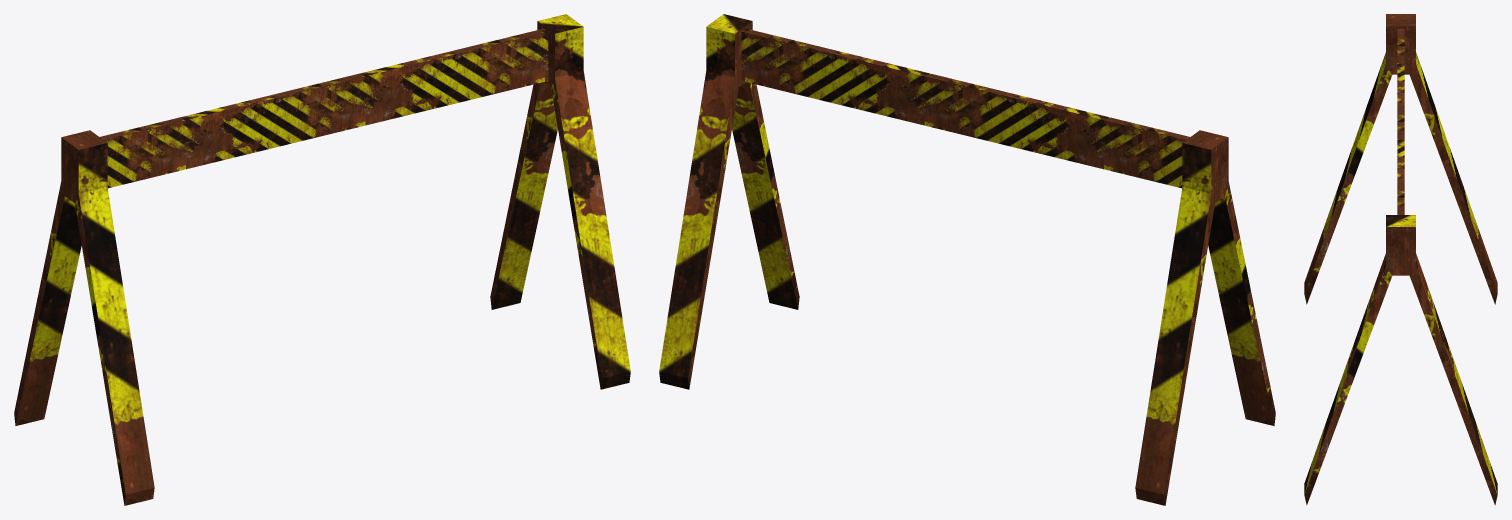
File: FBXroadblock2.fbx
The picture shows the model from 3 angles, left to right: view 1: azimuth 30°, elevation 25°; view 2: azimuth 150°, elevation 25°; view 3: azimuth 270°, elevation 25°; orthographic projection. The views are drawn at different scales.
Visible parts, largest first — view 1: wartningblcokthing; view 2: wartningblcokthing; view 3: wartningblcokthing.
Boxes of the visible parts, x1=… form: wartningblcokthing: x1=14, y1=14, x2=630, y2=505; wartningblcokthing: x1=659, y1=14, x2=1275, y2=505; wartningblcokthing: x1=1304, y1=14, x2=1497, y2=505.
Bounding box in the file's own units: 157 × 95.99 × 60.24.
1 material, 1 textured.
